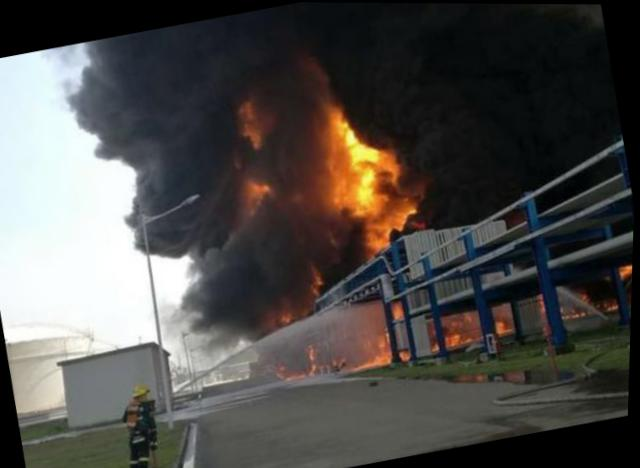fire: (322, 138, 405, 214), (362, 205, 398, 252), (239, 96, 267, 147), (334, 112, 364, 156), (386, 198, 423, 229), (250, 172, 276, 205), (446, 329, 468, 347), (375, 345, 395, 364), (309, 342, 321, 372), (351, 357, 377, 370), (498, 316, 519, 332), (289, 366, 312, 380), (395, 298, 409, 317), (620, 260, 633, 275), (403, 347, 415, 358)
